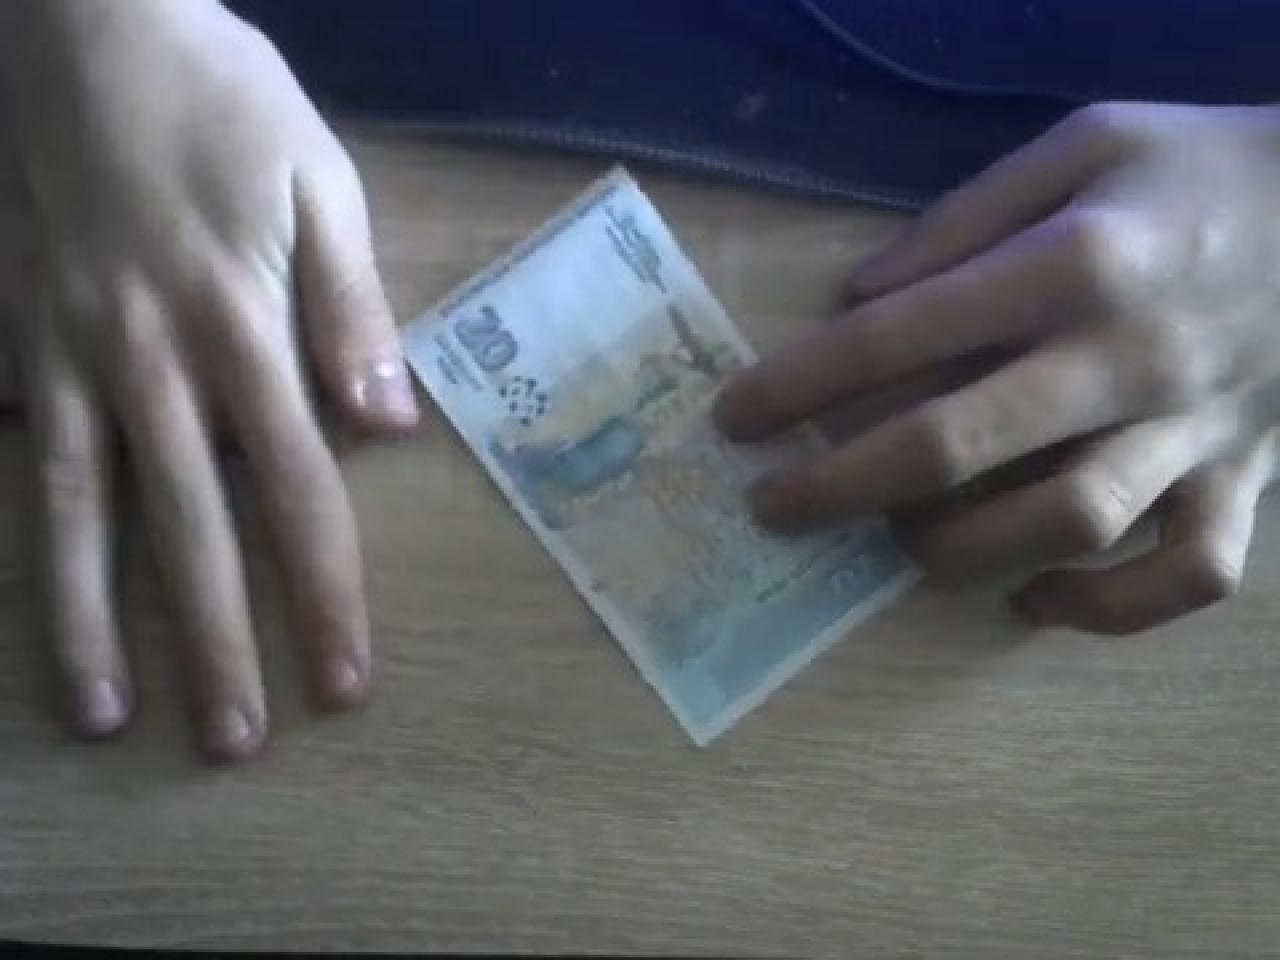20leva: (394, 157, 930, 747)
